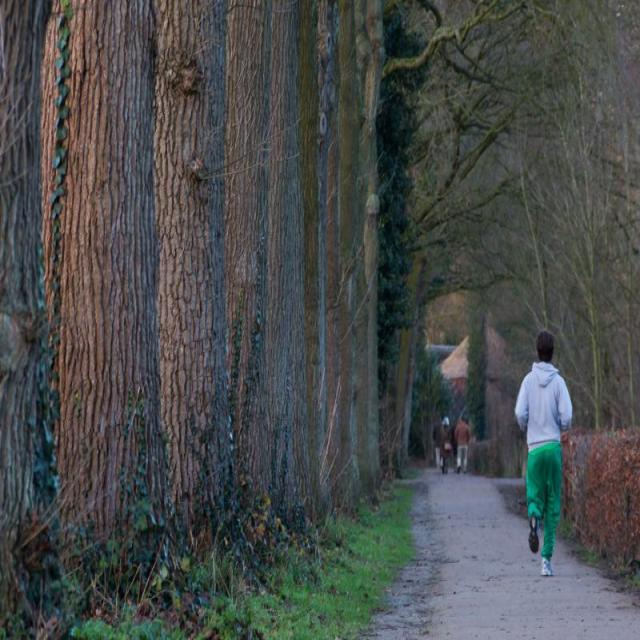running: (514, 331, 574, 577)
